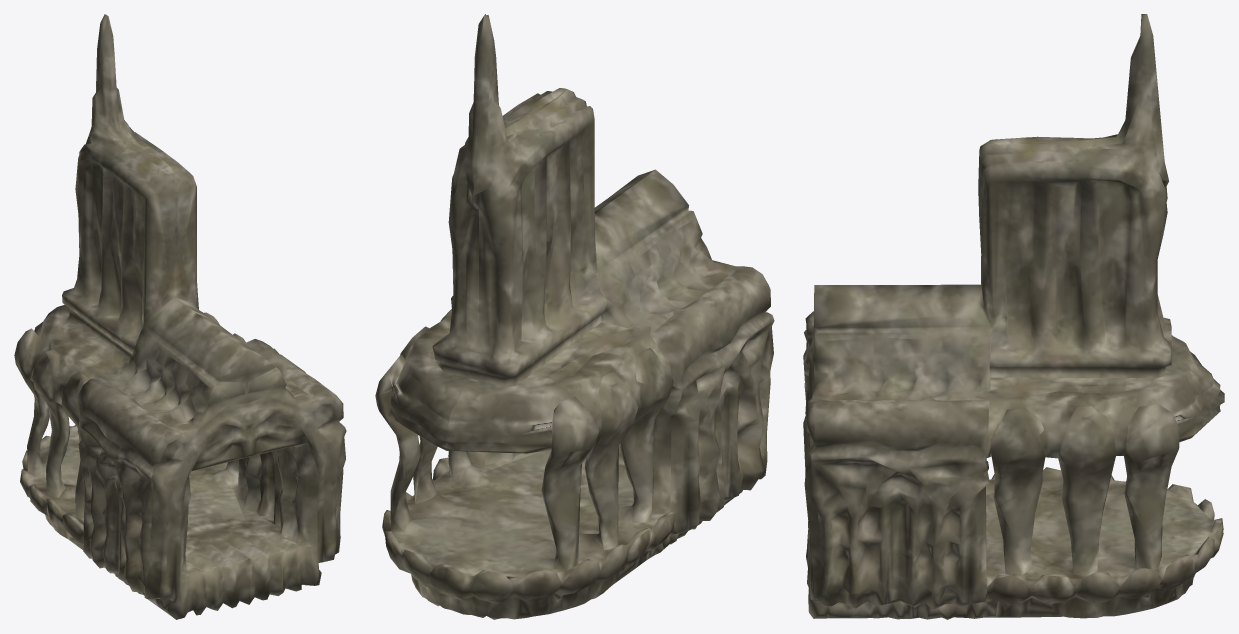
Rendered from UW_Building_B_Side-transformed.glb.
3 renders of one model, left to right at view 1: azimuth 30°, elevation 25°; view 2: azimuth 150°, elevation 25°; view 3: azimuth 270°, elevation 25°, orthographic. The views are drawn at different scales.
Visible parts, largest first — view 1: UW_Building_B_Side; view 2: UW_Building_B_Side; view 3: UW_Building_B_Side.
Boxes of the visible parts, box(x1,y1,x2,y2) form: UW_Building_B_Side: box(14, 14, 346, 619); UW_Building_B_Side: box(375, 14, 774, 619); UW_Building_B_Side: box(803, 14, 1224, 619).
Size of the model in its own units: 20.91 by 47.28 by 30.82.
Materials: 1 (1 with a texture image).
